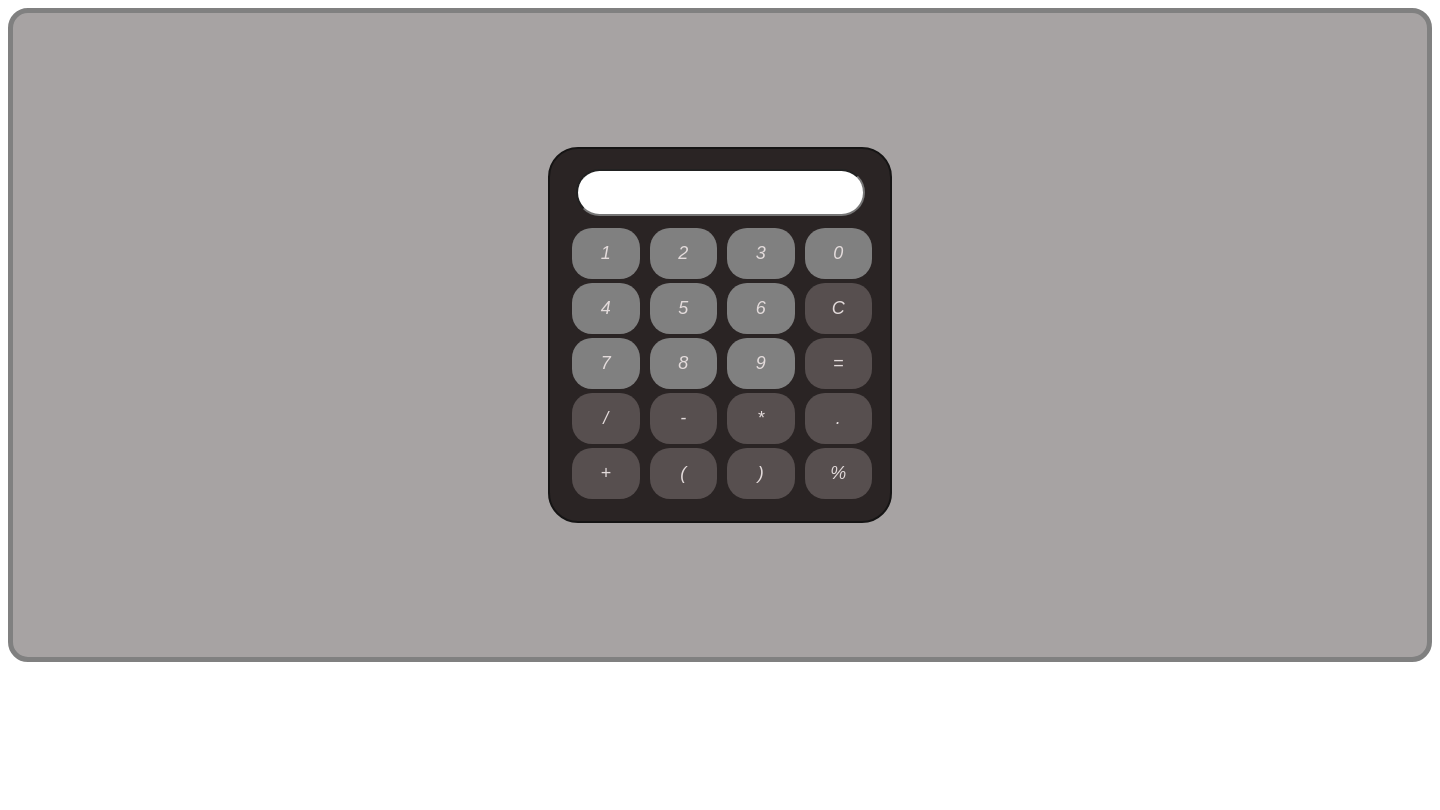
it: Calculator component › handles diveded operation
The width and height of the screenshot is (1440, 810).
What coordinates should you click on to do the following:
click the button "8"
I would click on:
 (683, 363)
Its box is [650,338,717,389].
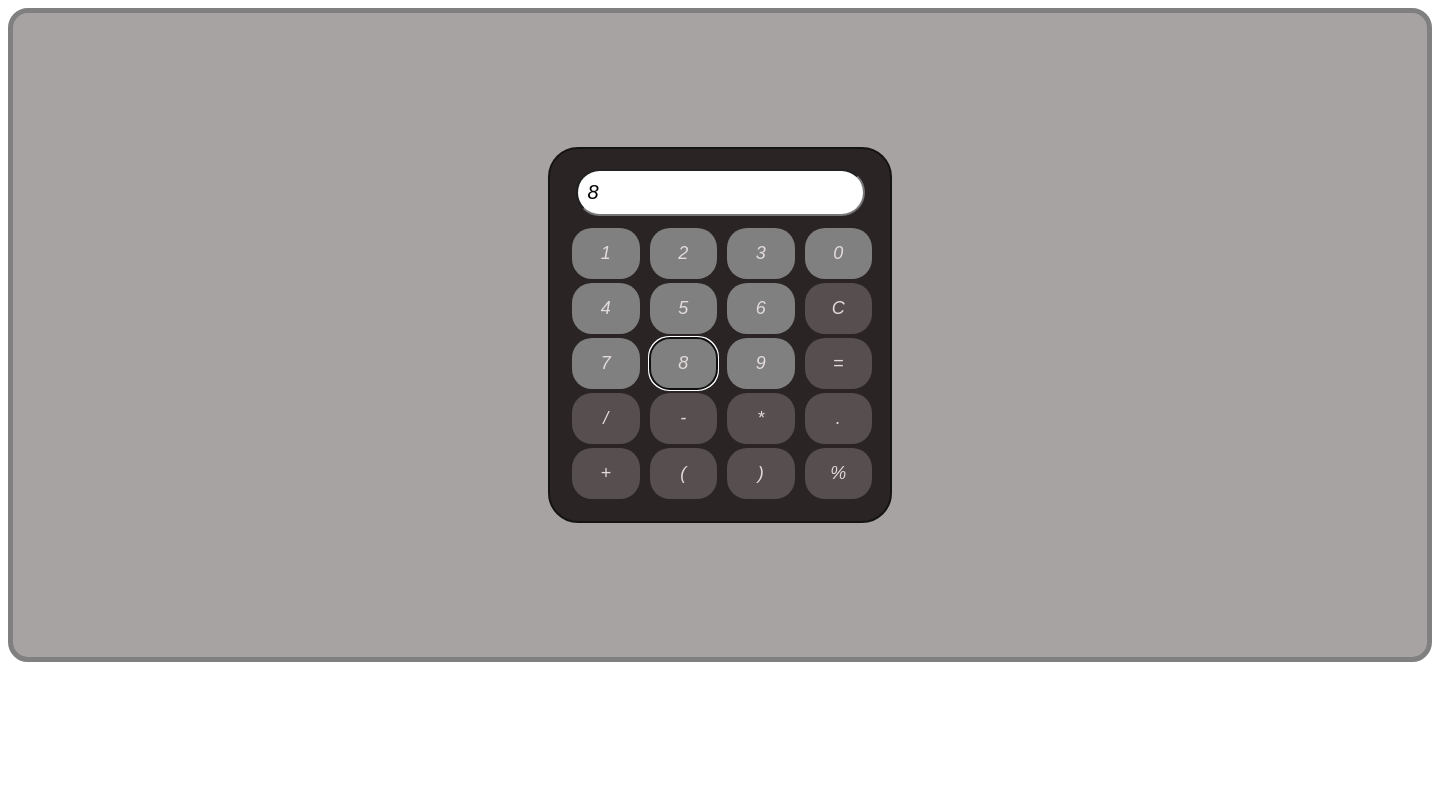
What coordinates should you click on to do the following:
click the button "/"
I would click on:
 (606, 418)
Its box is [572,393,640,444].
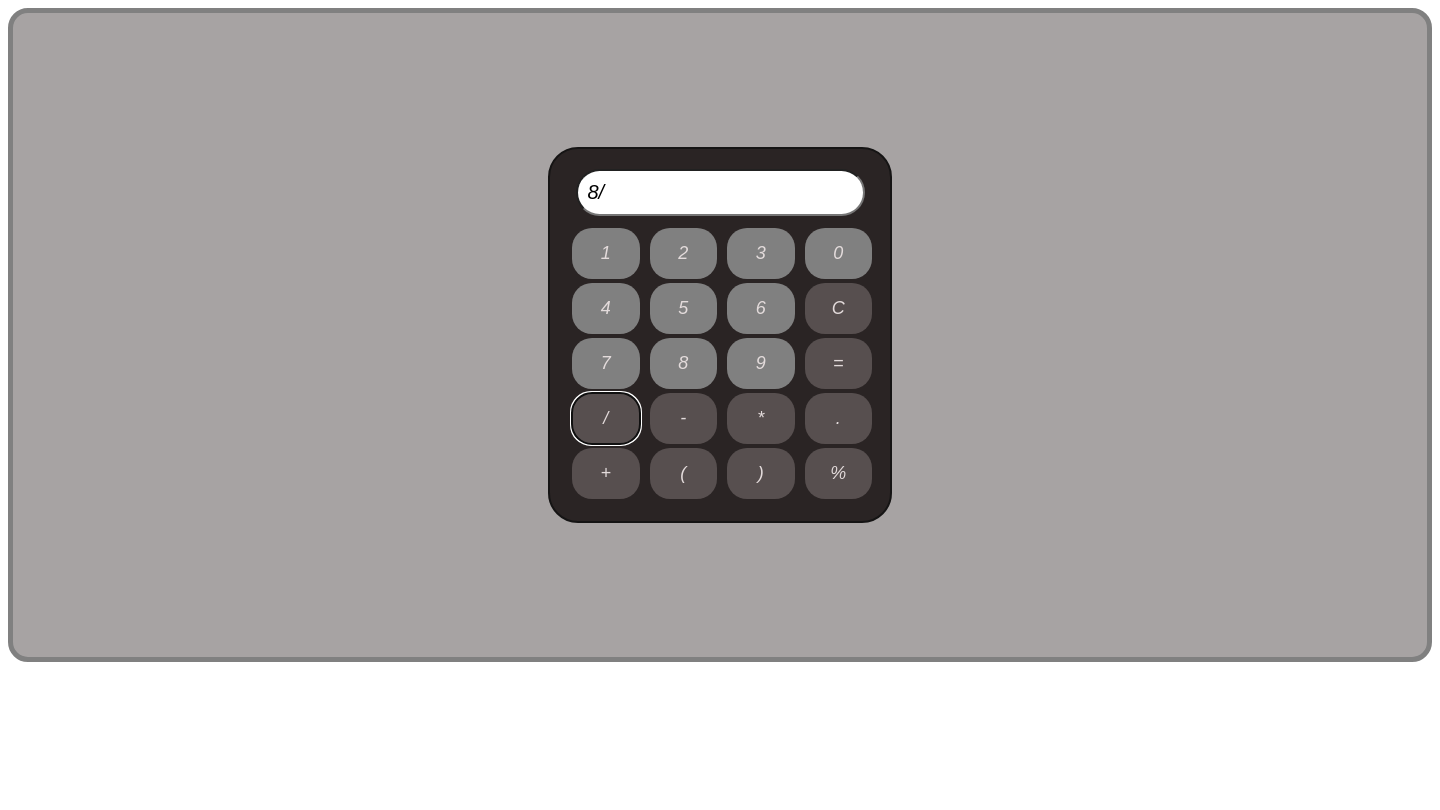
What coordinates should you click on to do the following:
click the button "2"
I would click on:
 (683, 253)
Its box is [650,228,717,279].
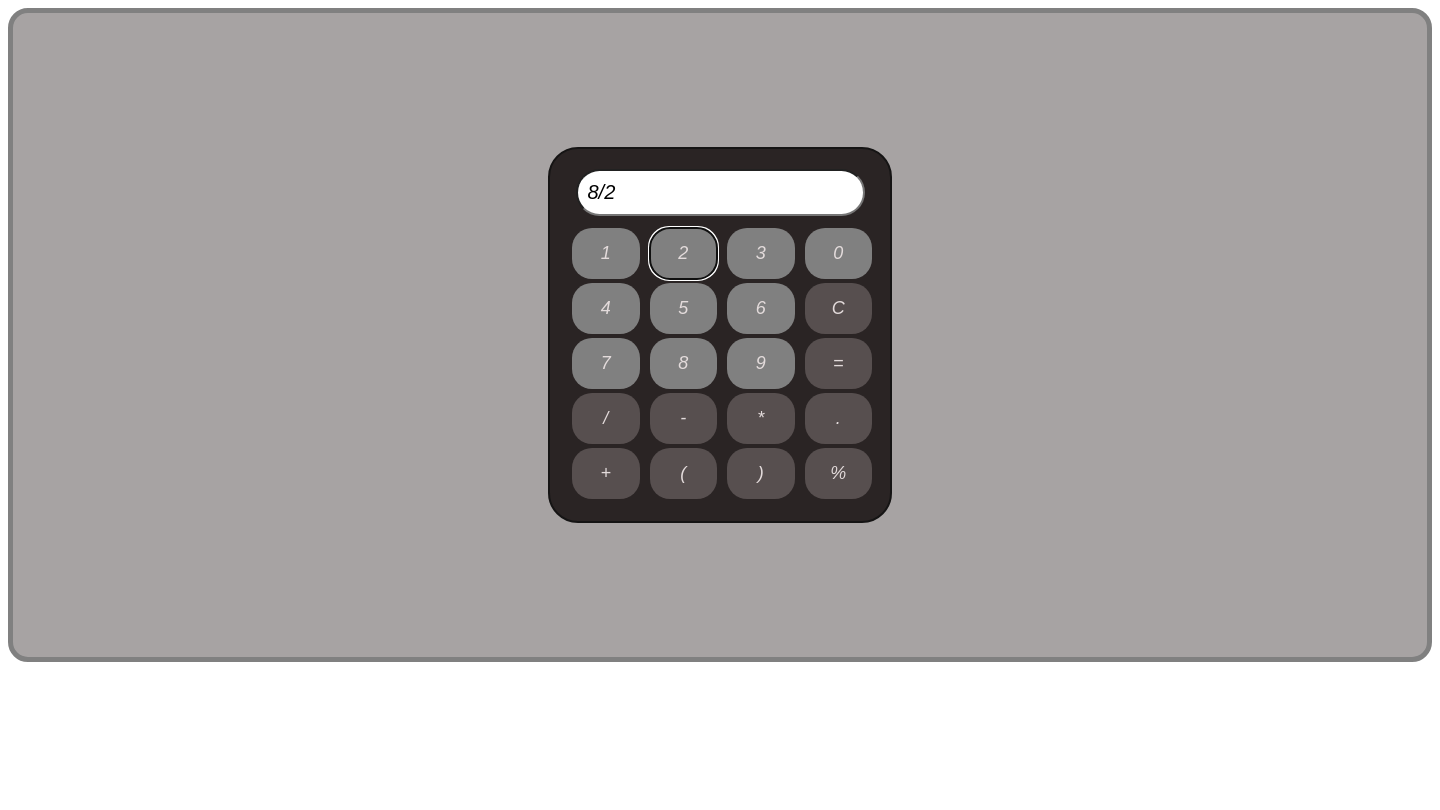
What coordinates should you click on to do the following:
click the button "="
I would click on:
 (838, 363)
Its box is [804,338,872,389].
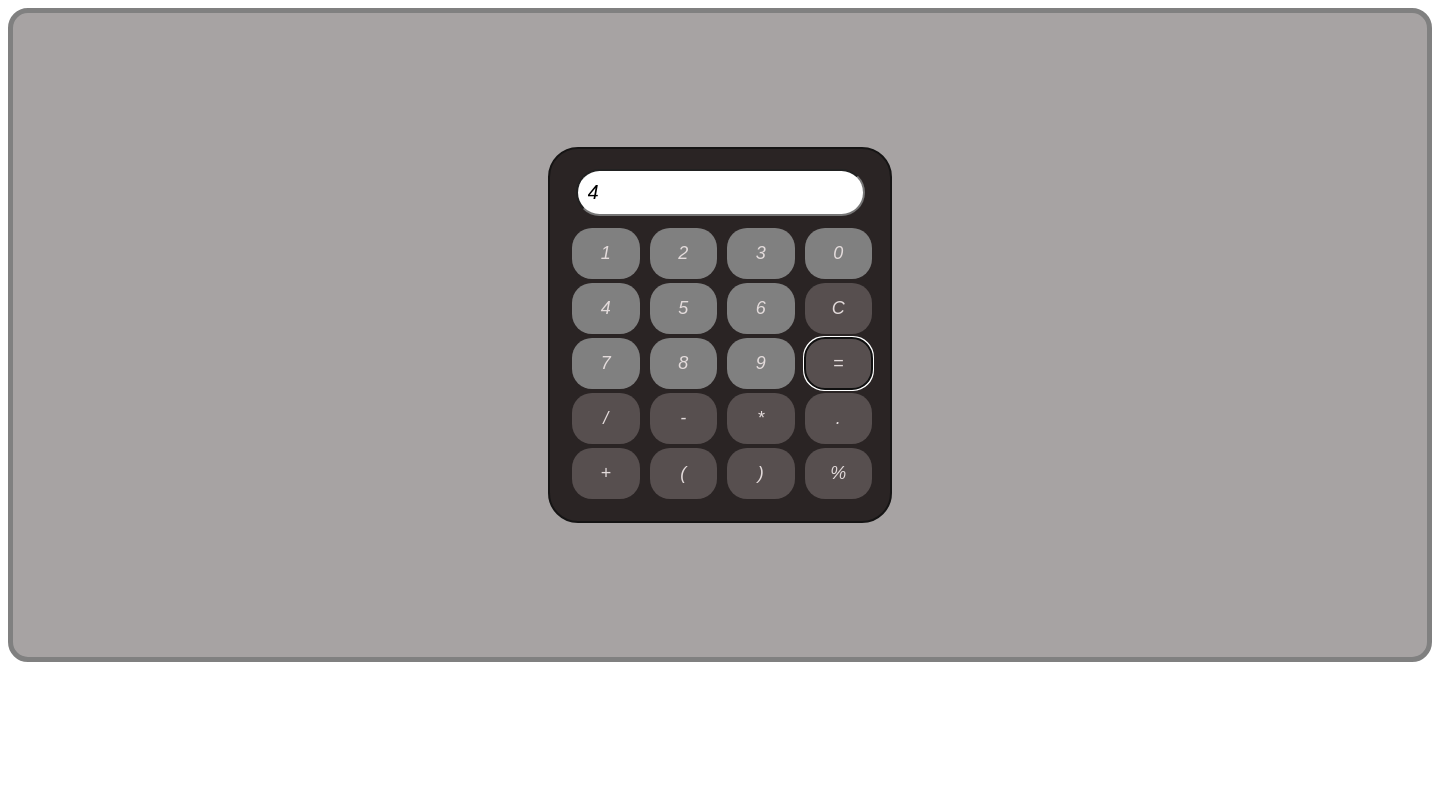
Now the field holds "4", box [576,169,864,216]
